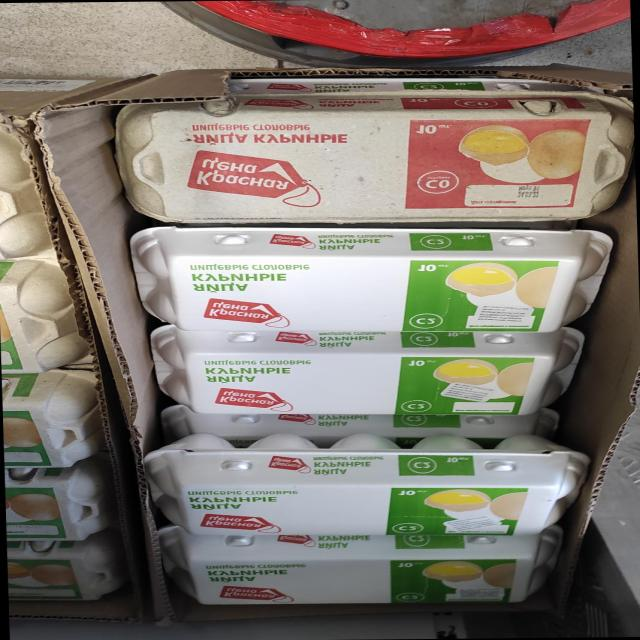organic waste: (115, 90, 636, 226), (132, 225, 618, 337), (147, 431, 598, 538), (151, 327, 589, 416), (162, 525, 563, 608), (1, 369, 116, 468), (0, 258, 89, 374), (5, 462, 119, 541), (7, 534, 123, 602)
